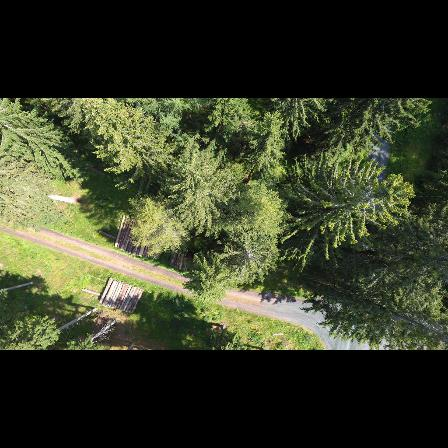Sick: (231, 233, 270, 280)
